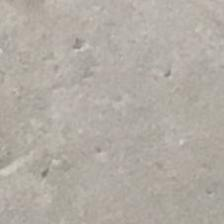Non_Crack: (11, 10, 224, 224)
